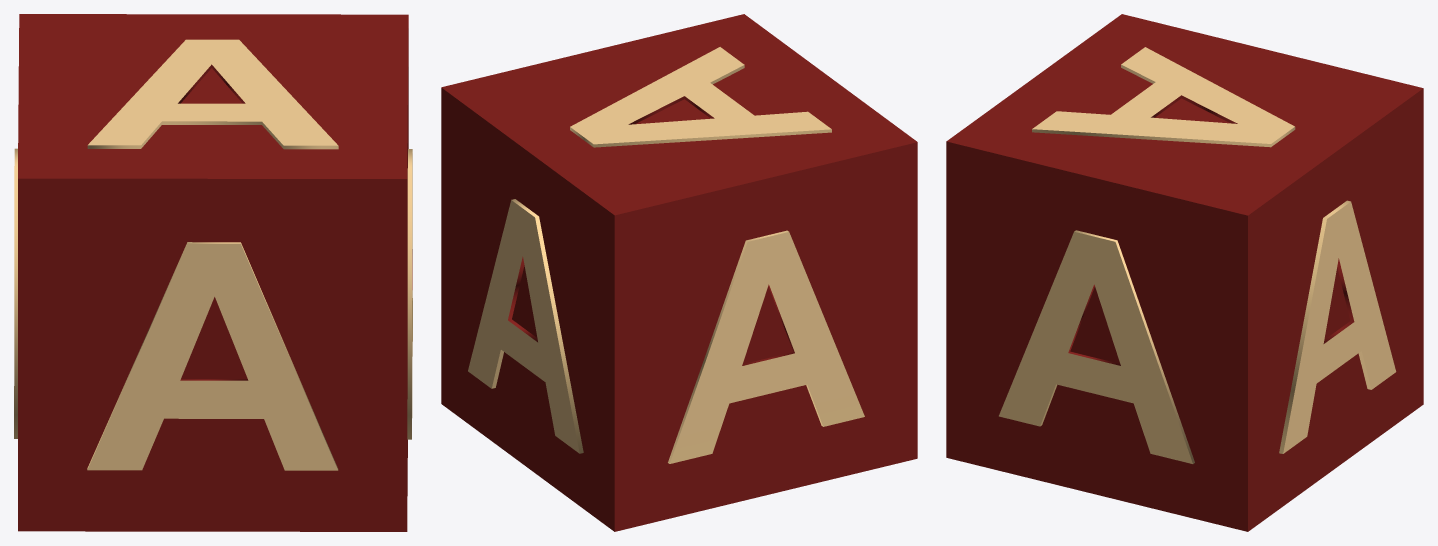
File: 10aharfi.fbx
The picture shows the model from 3 angles, left to right: view 1: azimuth 30°, elevation 25°; view 2: azimuth 150°, elevation 25°; view 3: azimuth 270°, elevation 25°; orthographic projection. The views are drawn at different scales.
Parts seen in each view (by area): view 1: Cube.035; view 2: Cube.035; view 3: Cube.035.
Part boxes in pixels (x1,y1,x2,y2): Cube.035: (14, 14, 412, 531); Cube.035: (441, 14, 917, 531); Cube.035: (946, 14, 1423, 531).
Size of the model in its own units: 11.29 by 8.44 by 11.29.
